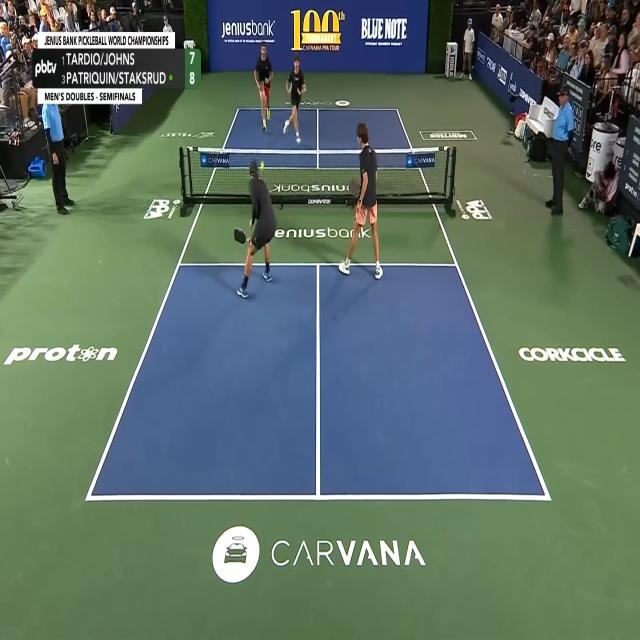ball: (260, 161, 264, 171)
